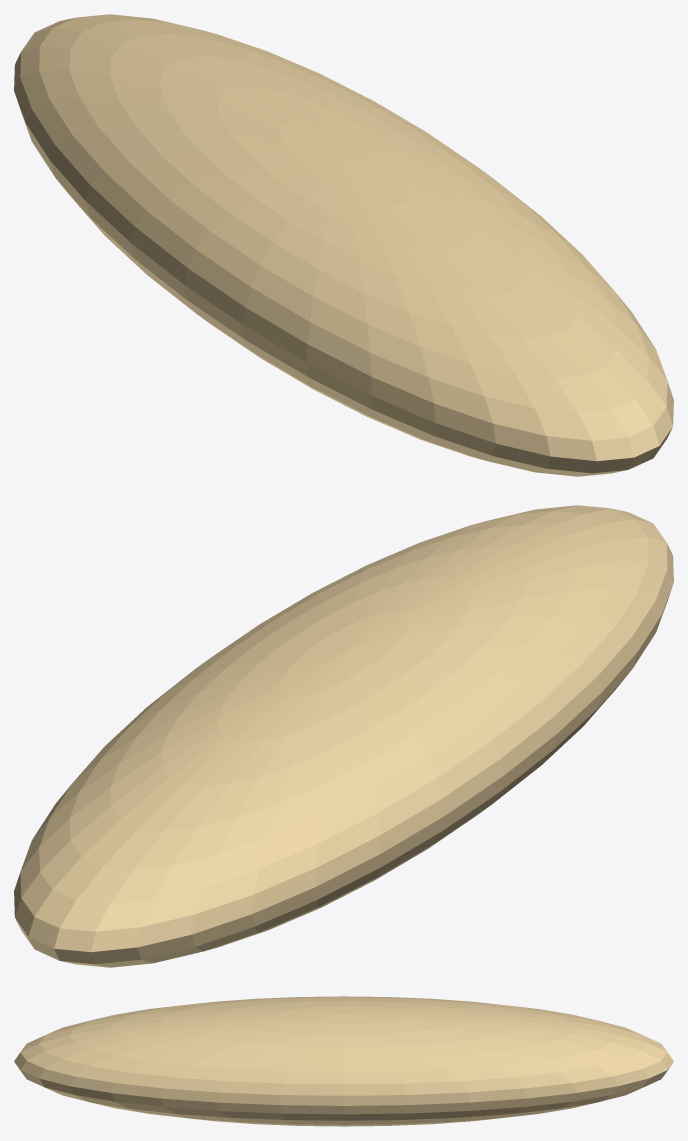
The model's file is sphere.030_lev3.glb.
The picture shows the model from 3 angles, top to bottom: view 1: azimuth 30°, elevation 25°; view 2: azimuth 150°, elevation 25°; view 3: azimuth 270°, elevation 25°; orthographic projection. The views are drawn at different scales.
Visible parts, largest first — view 1: sphere.030_lev3; view 2: sphere.030_lev3; view 3: sphere.030_lev3.
Boxes of the visible parts, bbox=[...] form: sphere.030_lev3: bbox=[14, 14, 673, 476]; sphere.030_lev3: bbox=[14, 505, 673, 967]; sphere.030_lev3: bbox=[14, 996, 673, 1126].
Bounding box in the file's own units: 0.4599 × 0.2291 × 1.44.
